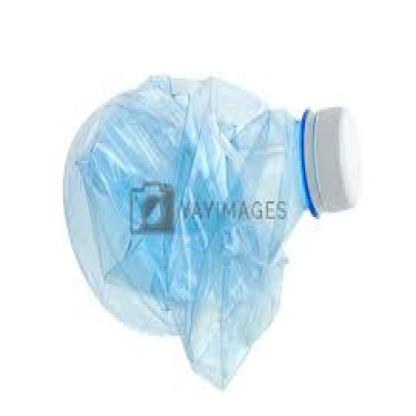Glass Bottle: (52, 68, 363, 386)
